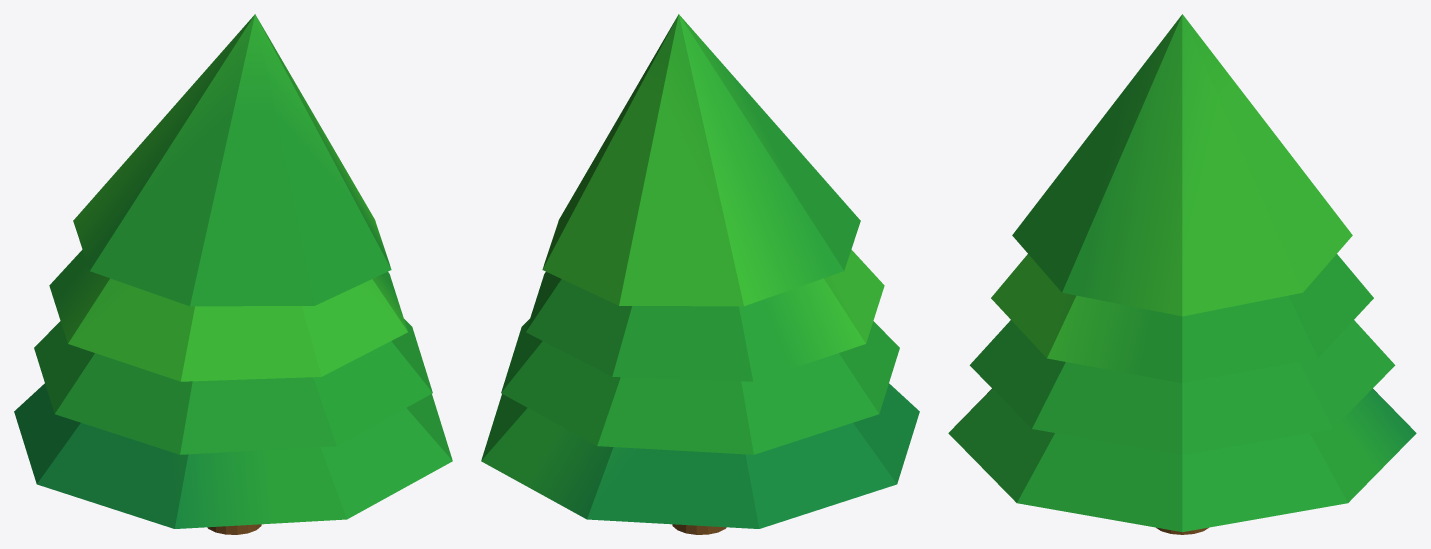
The model's file is Tree1.fbx.
3 renders of one model, left to right at view 1: azimuth 30°, elevation 25°; view 2: azimuth 150°, elevation 25°; view 3: azimuth 270°, elevation 25°, orthographic. The views are drawn at different scales.
Parts seen in each view (by area): view 1: Tree1; view 2: Tree1; view 3: Tree1.
Part boxes in pixels (x1=…): Tree1: x1=14, y1=14, x2=452, y2=534; Tree1: x1=481, y1=14, x2=919, y2=534; Tree1: x1=948, y1=14, x2=1416, y2=534.
Size of the model in its own units: 296 by 362 by 296.
